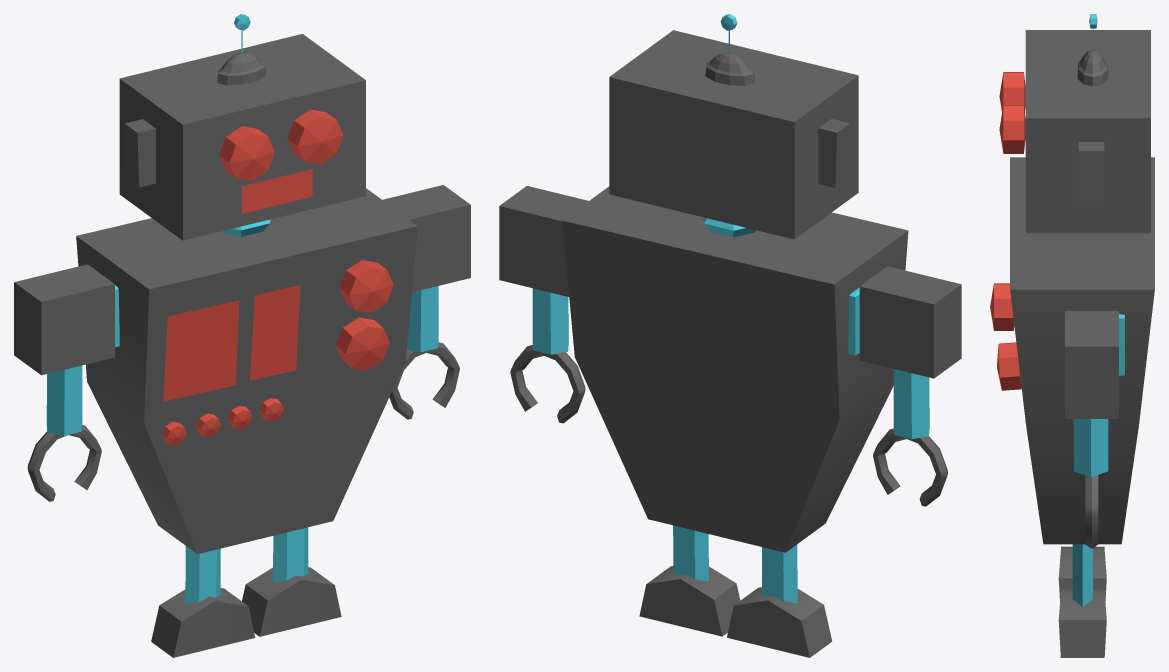
File: toy robot.fbx
3 views of the same model, side by side, from view 1: azimuth 30°, elevation 25°; view 2: azimuth 150°, elevation 25°; view 3: azimuth 270°, elevation 25° (orthographic). The views are drawn at different scales.
Parts seen in each view (by area): view 1: ASRX 1500M Robot; view 2: ASRX 1500M Robot; view 3: ASRX 1500M Robot.
Boxes of the visible parts, bbox=[...] form: ASRX 1500M Robot: bbox=[14, 14, 470, 657]; ASRX 1500M Robot: bbox=[499, 14, 961, 657]; ASRX 1500M Robot: bbox=[990, 14, 1154, 657].
Bounding box in the file's own units: 2164 × 2923 × 723.
